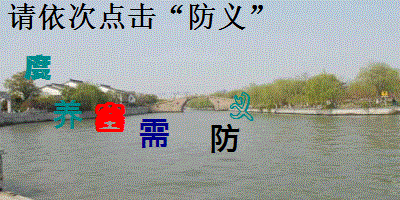text: (93, 101, 127, 134), (138, 117, 171, 150), (53, 98, 84, 132), (209, 123, 241, 155), (229, 91, 256, 123), (24, 53, 54, 81)
